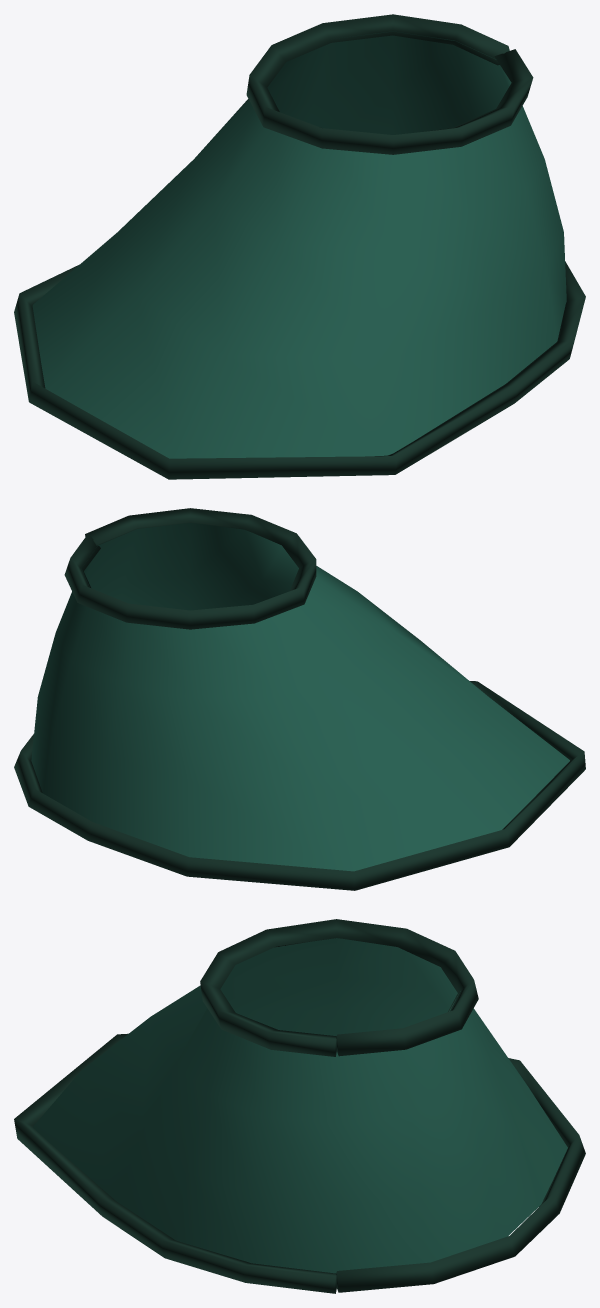
Rendered from vortex_armor_pauldron.R.glb.
3 renders of one model, top to bottom at view 1: azimuth 30°, elevation 25°; view 2: azimuth 150°, elevation 25°; view 3: azimuth 270°, elevation 25°, orthographic. The views are drawn at different scales.
Parts seen in each view (by area): view 1: vortex_armor_pauldron.R; view 2: vortex_armor_pauldron.R; view 3: vortex_armor_pauldron.R.
Part boxes in pixels (x1,y1,x2,y2): vortex_armor_pauldron.R: (14,14,585,479); vortex_armor_pauldron.R: (14,508,585,890); vortex_armor_pauldron.R: (14,919,585,1293).
Bounding box in the file's own units: 0.3788 × 0.1646 × 0.3604.
